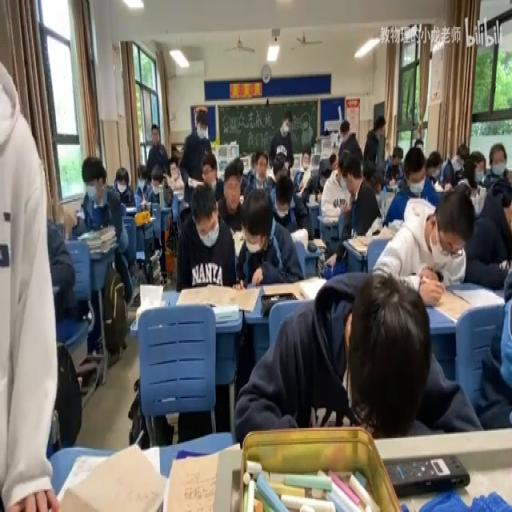calculator: (56, 442, 162, 511), (162, 441, 240, 510), (176, 281, 254, 313), (134, 282, 165, 330), (262, 277, 318, 303), (450, 286, 504, 308), (350, 230, 392, 254), (213, 304, 239, 322), (363, 216, 383, 236), (290, 227, 307, 249), (232, 228, 245, 256), (130, 213, 156, 226), (319, 215, 341, 226), (186, 175, 204, 188), (308, 238, 326, 250), (324, 250, 336, 266), (382, 182, 398, 193), (390, 218, 403, 230), (433, 181, 445, 192), (306, 199, 320, 208), (124, 205, 136, 213)
paper: (235, 266, 481, 441), (374, 185, 470, 293), (43, 206, 84, 454), (73, 155, 133, 319), (175, 181, 235, 293), (236, 188, 302, 286), (473, 263, 512, 426), (462, 175, 512, 290), (340, 151, 381, 240), (406, 144, 443, 212), (301, 155, 331, 208), (144, 122, 170, 181), (269, 111, 294, 171), (196, 151, 222, 205), (482, 144, 510, 192), (336, 118, 362, 169), (245, 148, 274, 193), (443, 142, 470, 185), (363, 115, 383, 172), (113, 165, 136, 206), (382, 145, 404, 186), (166, 154, 186, 196), (134, 162, 152, 205), (468, 179, 486, 212), (274, 189, 290, 212), (470, 156, 484, 180), (273, 164, 288, 180), (293, 166, 303, 190), (150, 176, 164, 192), (196, 112, 206, 134), (370, 176, 380, 192), (302, 148, 310, 166), (322, 170, 331, 184), (329, 151, 336, 168), (161, 175, 169, 188), (414, 138, 424, 148), (323, 128, 330, 135)
person: (386, 454, 470, 496)
